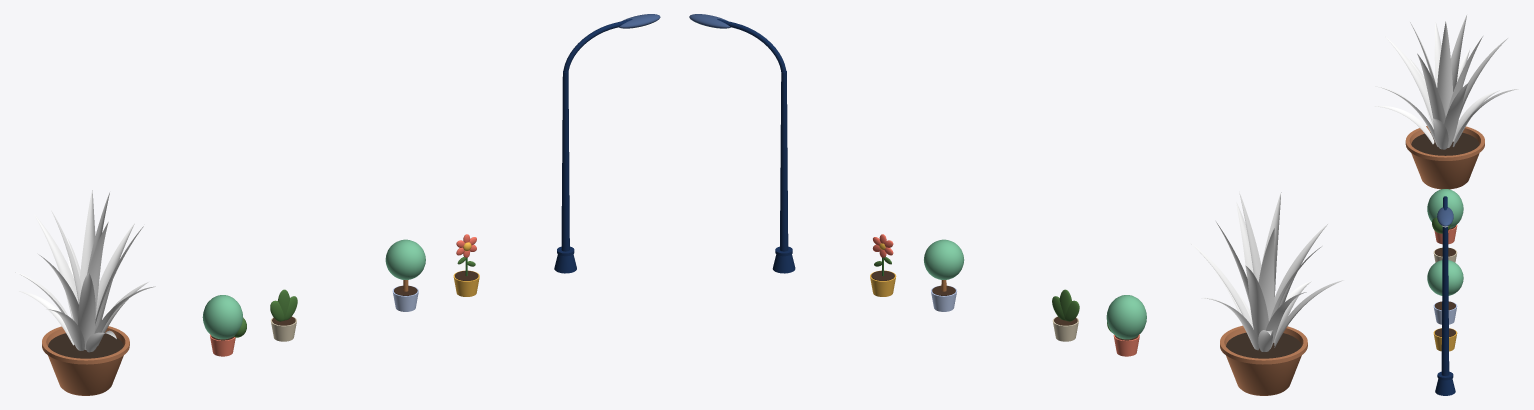
The model's file is planta_larga.glb.
3 views of the same model, side by side, from view 1: azimuth 30°, elevation 25°; view 2: azimuth 150°, elevation 25°; view 3: azimuth 270°, elevation 25° (orthographic). The views are drawn at different scales.
Parts seen in each view (by area): view 1: Maceta, hojas_redonda_1, farol_poste, hojas_arbolito, Tierra, Hoja_08, Hoja_09, Hoja_04, Hoja_07, Hoja_03; view 2: Maceta, hojas_redonda_1, farol_poste, hojas_arbolito, Tierra, Hoja_02, Hoja_07, Hoja_08; view 3: Maceta, farol_poste, Hoja_01, Tierra, hojas_arbolito, hojas_redonda_1, Hoja_06, Hoja_09, Hoja_08, Hoja_02, Hoja_15, Hoja_14 (+12 smaller).
Part boxes in pixels (box(x1,y1,x2,y2)): Maceta: box(42, 326, 129, 395); hojas_redonda_1: box(202, 295, 243, 339); farol_poste: box(561, 71, 569, 251); hojas_arbolito: box(385, 239, 425, 279); Tierra: box(48, 333, 123, 358); Hoja_08: box(78, 273, 95, 349); Hoja_09: box(95, 223, 134, 329); Hoja_04: box(78, 190, 95, 303); Hoja_07: box(34, 214, 78, 320); Hoja_03: box(87, 222, 108, 314); Maceta: box(1220, 325, 1307, 395); hojas_redonda_1: box(1106, 295, 1146, 339); farol_poste: box(780, 71, 788, 251); hojas_arbolito: box(924, 239, 964, 279); Tierra: box(1226, 332, 1301, 358); Hoja_02: box(1258, 228, 1274, 321); Hoja_07: box(1245, 265, 1268, 339); Hoja_08: box(1274, 223, 1328, 307); Maceta: box(1405, 126, 1484, 189); farol_poste: box(1441, 226, 1449, 375); Hoja_01: box(1437, 21, 1453, 117); Tierra: box(1411, 132, 1479, 155); hojas_arbolito: box(1427, 260, 1463, 295); hojas_redonda_1: box(1427, 189, 1463, 228); Hoja_06: box(1417, 53, 1445, 123); Hoja_09: box(1444, 83, 1468, 147); Hoja_08: box(1385, 36, 1433, 126); Hoja_02: box(1451, 15, 1466, 91); Hoja_15: box(1453, 90, 1499, 142); Hoja_14: box(1432, 118, 1448, 149).
Size of the model in its own units: 16.68 by 5.86 by 3.68.
